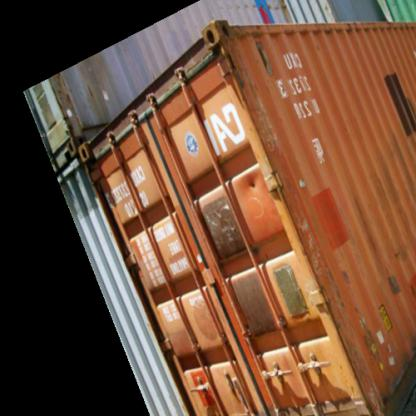Damage: (297, 175, 379, 402), (215, 20, 309, 199)
